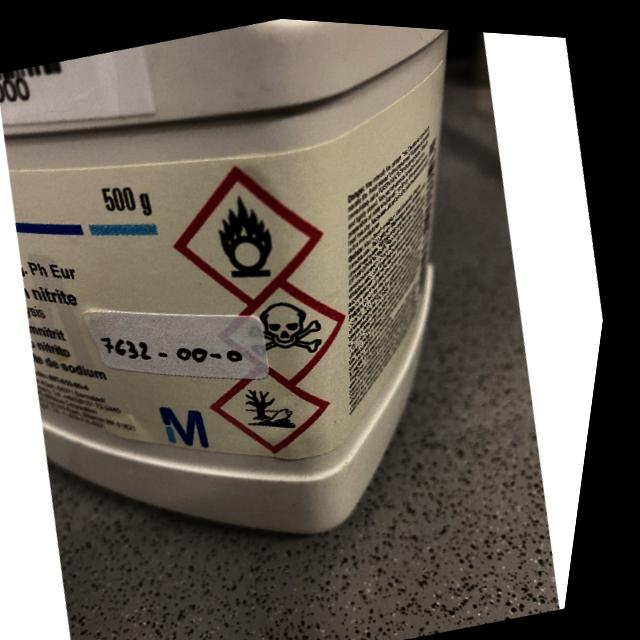acute toxicity: (248, 286, 339, 362)
hazardous to the environment: (249, 374, 312, 434)
oxidising: (211, 184, 291, 284)
